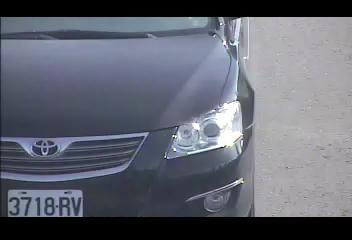plate: (6, 188, 83, 219)
